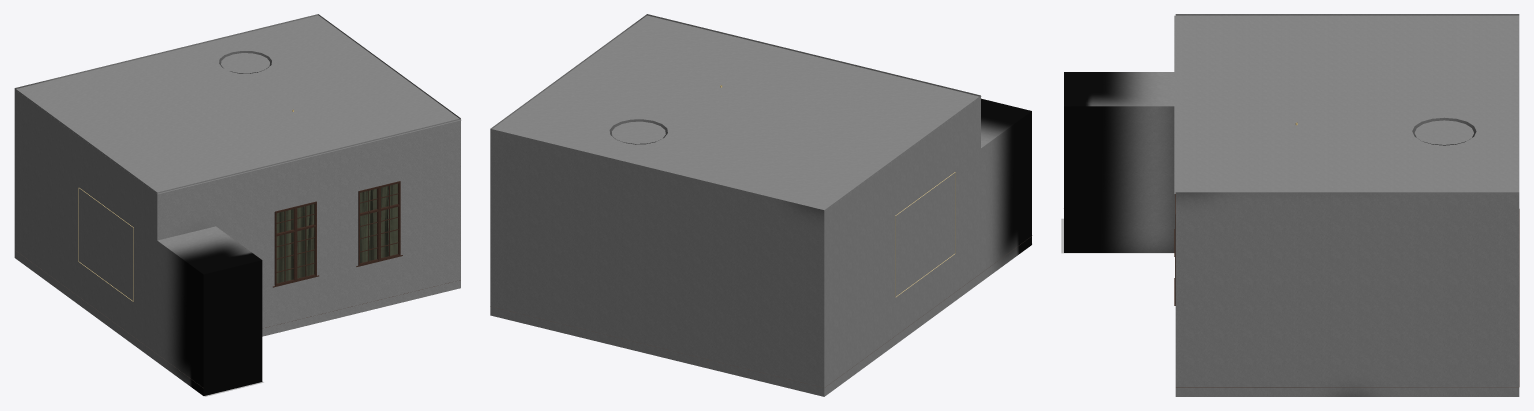
The model's file is Neo-Room.fbx.
The picture shows the model from 3 angles, left to right: view 1: azimuth 30°, elevation 25°; view 2: azimuth 150°, elevation 25°; view 3: azimuth 270°, elevation 25°; orthographic projection. The views are drawn at different scales.
Visible parts, largest first — view 1: Walls.001, Ceiling, Curtains-Neo, Window-Frame; view 2: Walls.001, Ceiling; view 3: Walls.001, Ceiling.
Boxes of the visible parts, box(x1,y1,x2,y2) form: Walls.001: box(14, 14, 460, 395); Ceiling: box(16, 15, 461, 193); Curtains-Neo: box(276, 183, 397, 283); Window-Frame: box(273, 181, 402, 287); Walls.001: box(490, 14, 1032, 396); Ceiling: box(492, 15, 981, 209); Walls.001: box(1064, 14, 1519, 396); Ceiling: box(1174, 15, 1519, 193).
Size of the model in its own units: 1233 by 660 by 1334.
